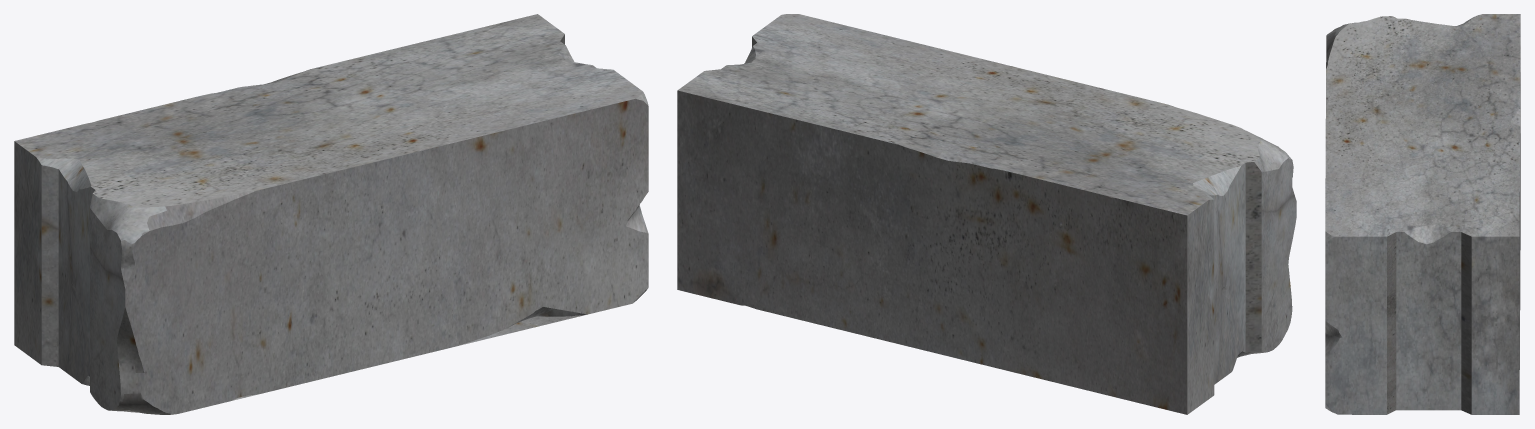
The model's file is Bet_blok_002-3.fbx.
The picture shows the model from 3 angles, left to right: view 1: azimuth 30°, elevation 25°; view 2: azimuth 150°, elevation 25°; view 3: azimuth 270°, elevation 25°; orthographic projection. The views are drawn at different scales.
Parts seen in each view (by area): view 1: Cube_dmg; view 2: Cube_dmg; view 3: Cube_dmg.
Boxes of the visible parts, x1=… form: Cube_dmg: x1=14, y1=14, x2=648, y2=414; Cube_dmg: x1=677, y1=14, x2=1296, y2=414; Cube_dmg: x1=1325, y1=14, x2=1520, y2=414.
Size of the model in its own units: 174 by 65.01 by 64.67.
